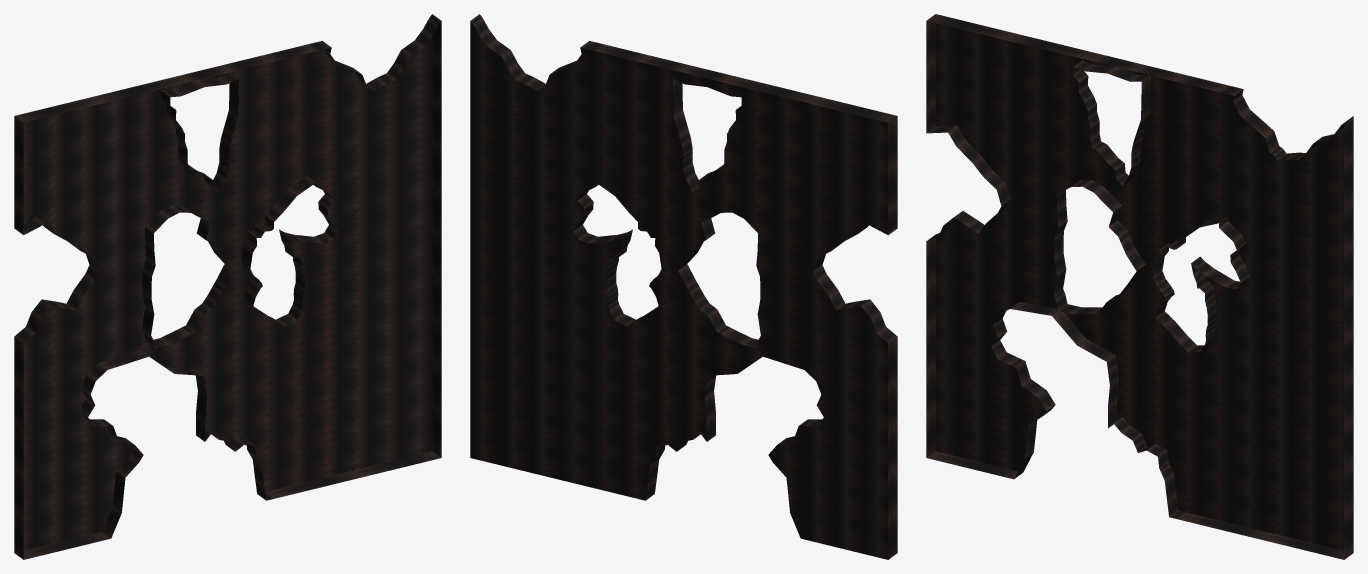
The model's file is Room4-BG4.fbx.
The picture shows the model from 3 angles, left to right: view 1: azimuth 30°, elevation 25°; view 2: azimuth 150°, elevation 25°; view 3: azimuth 330°, elevation 25°; orthographic projection.
Parts seen in each view (by area): view 1: pPlane8; view 2: pPlane8; view 3: pPlane8.
Part boxes in pixels (x1,y1,x2,y2): pPlane8: (14, 14, 441, 559); pPlane8: (470, 14, 897, 559); pPlane8: (926, 14, 1353, 559).
Bounding box in the file's own units: 32.33 × 32.33 × 1.24.
